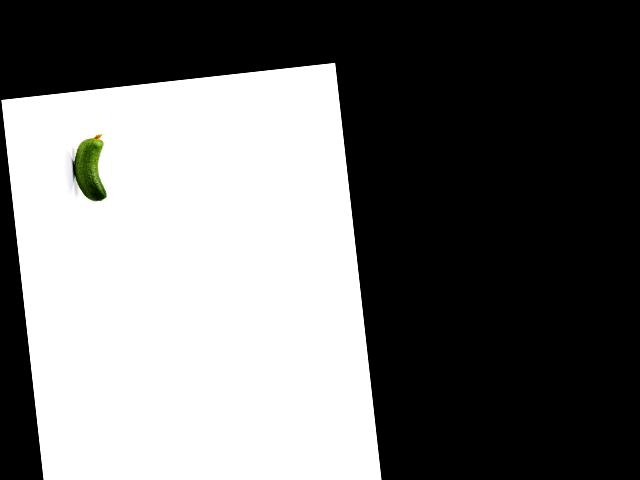cucumber: (69, 133, 110, 204)
